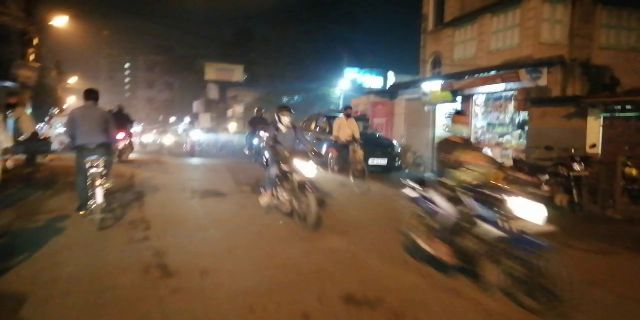Cycle: (63, 86, 124, 235)
Motorbike: (407, 104, 577, 314), (257, 103, 328, 224)
